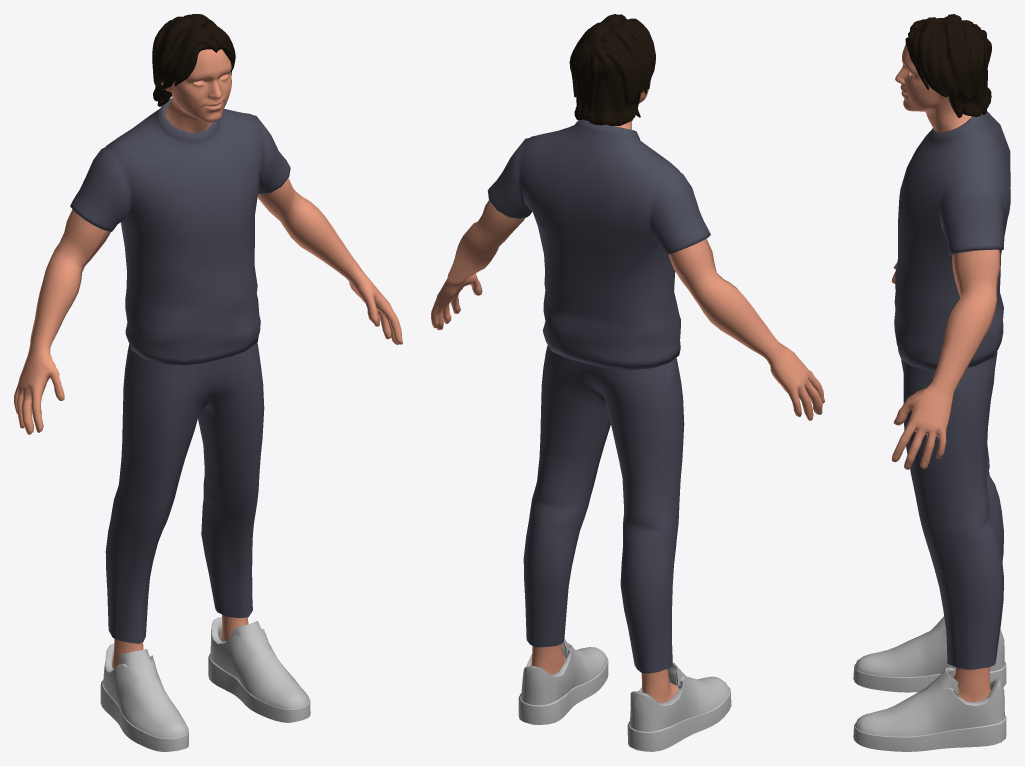
Rendered from man1.glb.
3 views of the same model, side by side, from view 1: azimuth 30°, elevation 25°; view 2: azimuth 150°, elevation 25°; view 3: azimuth 270°, elevation 25° (orthographic).
Parts seen in each view (by area): view 1: Wolf3D_Outfit_Top.001, Wolf3D_Outfit_Bottom.001, Wolf3D_Body.001, Wolf3D_Outfit_Footwear.001, Wolf3D_Hair, Wolf3D_Head.001; view 2: Wolf3D_Outfit_Top.001, Wolf3D_Outfit_Bottom.001, Wolf3D_Body.001, Wolf3D_Outfit_Footwear.001, Wolf3D_Hair; view 3: Wolf3D_Outfit_Top.001, Wolf3D_Outfit_Bottom.001, Wolf3D_Outfit_Footwear.001, Wolf3D_Body.001, Wolf3D_Hair, Wolf3D_Head.001.
Boxes of the visible parts, <box> form: Wolf3D_Outfit_Top.001: <box>70,98,290,365</box>; Wolf3D_Outfit_Bottom.001: <box>105,342,264,643</box>; Wolf3D_Body.001: <box>14,178,402,669</box>; Wolf3D_Outfit_Footwear.001: <box>100,617,310,751</box>; Wolf3D_Hair: <box>152,14,235,106</box>; Wolf3D_Head.001: <box>161,49,231,132</box>; Wolf3D_Outfit_Top.001: <box>487,119,710,370</box>; Wolf3D_Outfit_Bottom.001: <box>523,345,684,673</box>; Wolf3D_Body.001: <box>431,200,824,702</box>; Wolf3D_Outfit_Footwear.001: <box>518,638,731,751</box>; Wolf3D_Hair: <box>569,14,655,125</box>; Wolf3D_Outfit_Top.001: <box>894,111,1010,370</box>; Wolf3D_Outfit_Bottom.001: <box>901,351,1003,669</box>; Wolf3D_Outfit_Footwear.001: <box>853,616,1006,751</box>; Wolf3D_Body.001: <box>891,249,1000,702</box>; Wolf3D_Hair: <box>905,14,991,117</box>; Wolf3D_Head.001: <box>895,44,971,132</box>.
Size of the model in its own units: 10.29 by 17.92 by 3.69.
Materials: 4 (1 with a texture image).
